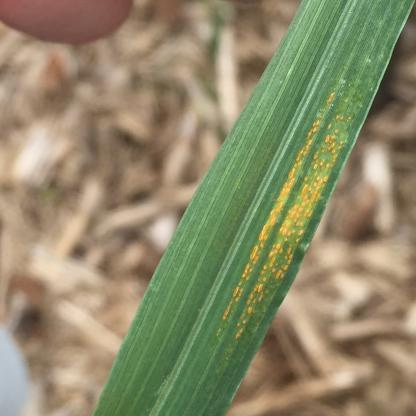Corn rust leaf: (136, 3, 414, 416)
